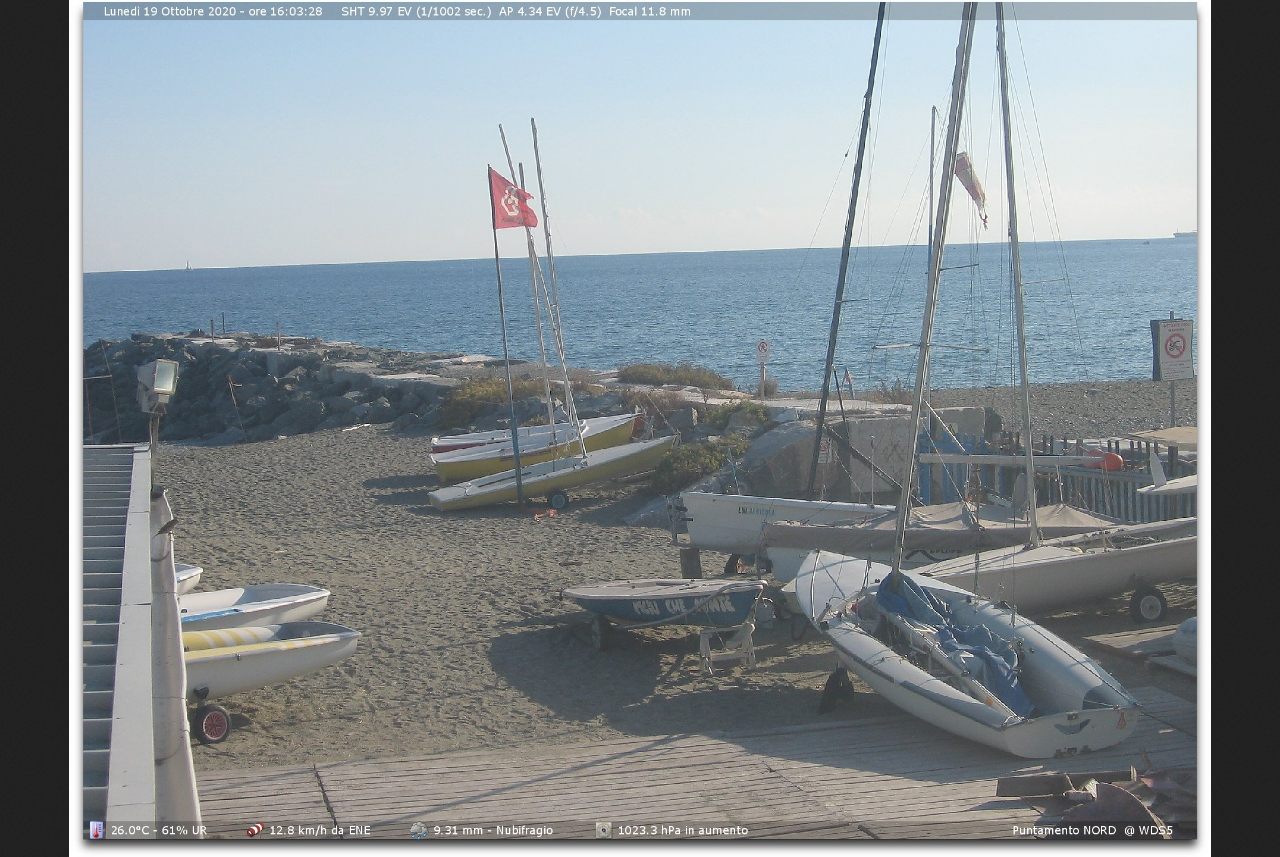maybe: (477, 154, 546, 236)
